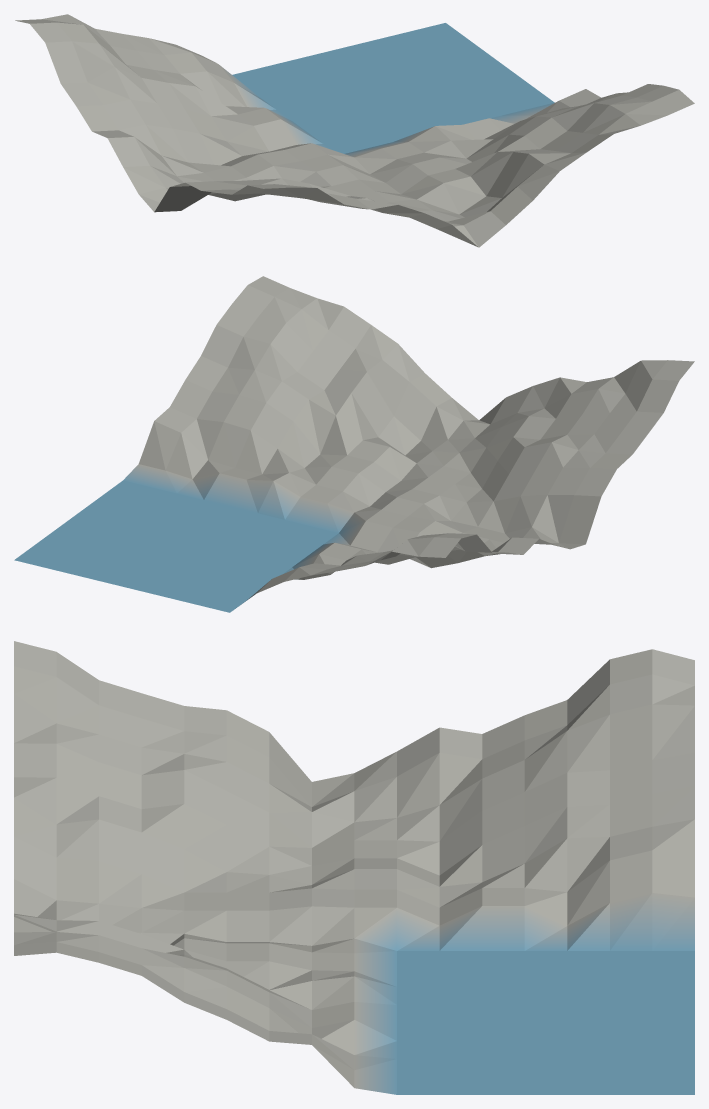
The picture shows the model from 3 angles, top to bottom: view 1: azimuth 30°, elevation 25°; view 2: azimuth 150°, elevation 25°; view 3: azimuth 270°, elevation 25°; orthographic projection. The views are drawn at different scales.
Bounding box in the file's own units: 32 × 8.62 × 32.
